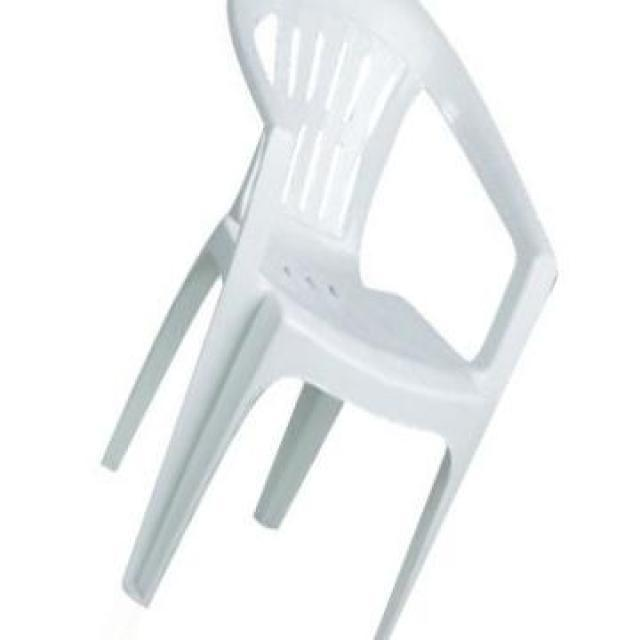chair: (96, 2, 562, 640)
